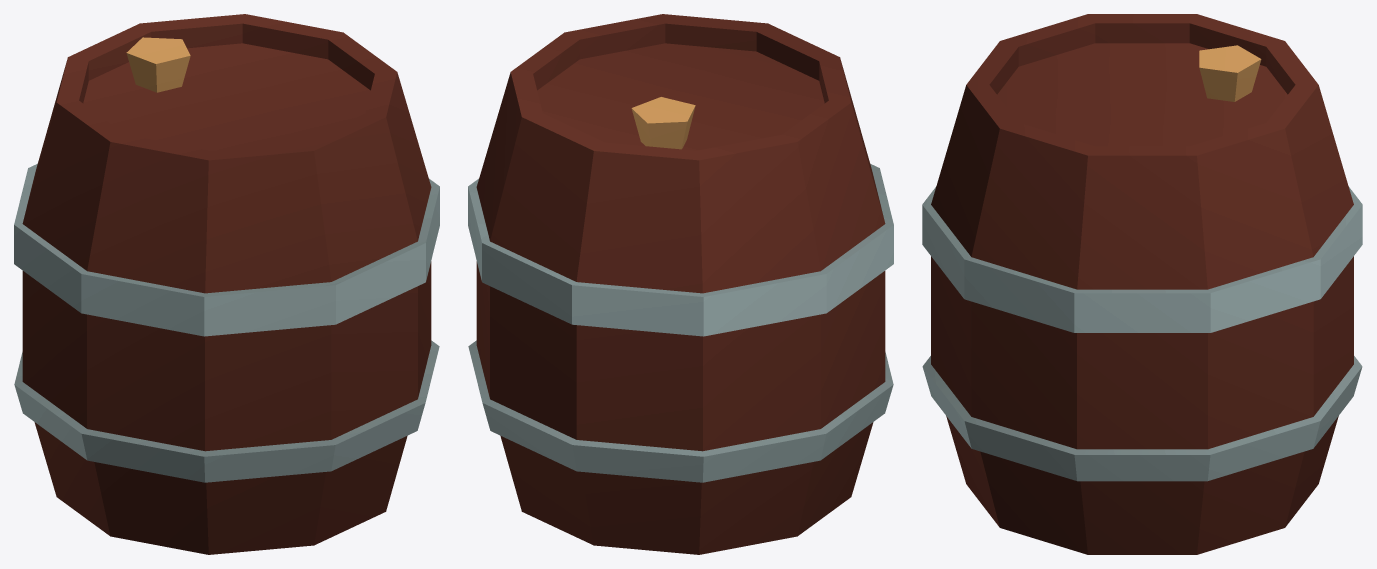
The model's file is m_bg_barrel_01.fbx.
3 views of the same model, side by side, from view 1: azimuth 30°, elevation 25°; view 2: azimuth 150°, elevation 25°; view 3: azimuth 270°, elevation 25° (orthographic).
Visible parts, largest first — view 1: m_bg_barrel_01; view 2: m_bg_barrel_01; view 3: m_bg_barrel_01.
Part boxes in pixels (bbox=[...]): m_bg_barrel_01: bbox=[14, 14, 439, 554]; m_bg_barrel_01: bbox=[468, 14, 893, 554]; m_bg_barrel_01: bbox=[922, 14, 1362, 554].
Size of the model in its own units: 95.11 by 103 by 100.
